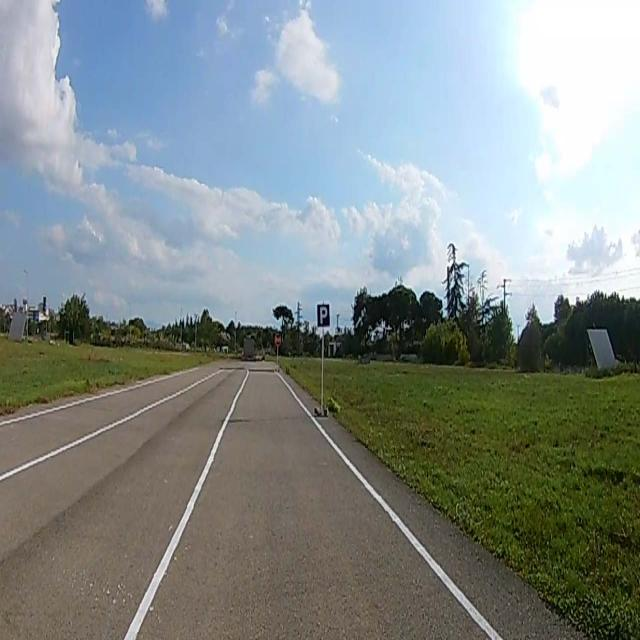park: (317, 305, 329, 327)
